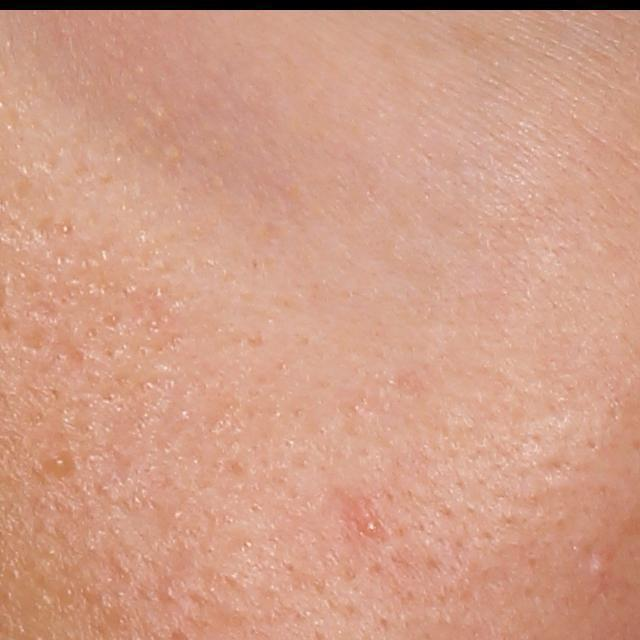comedo: (586, 556, 611, 579)
